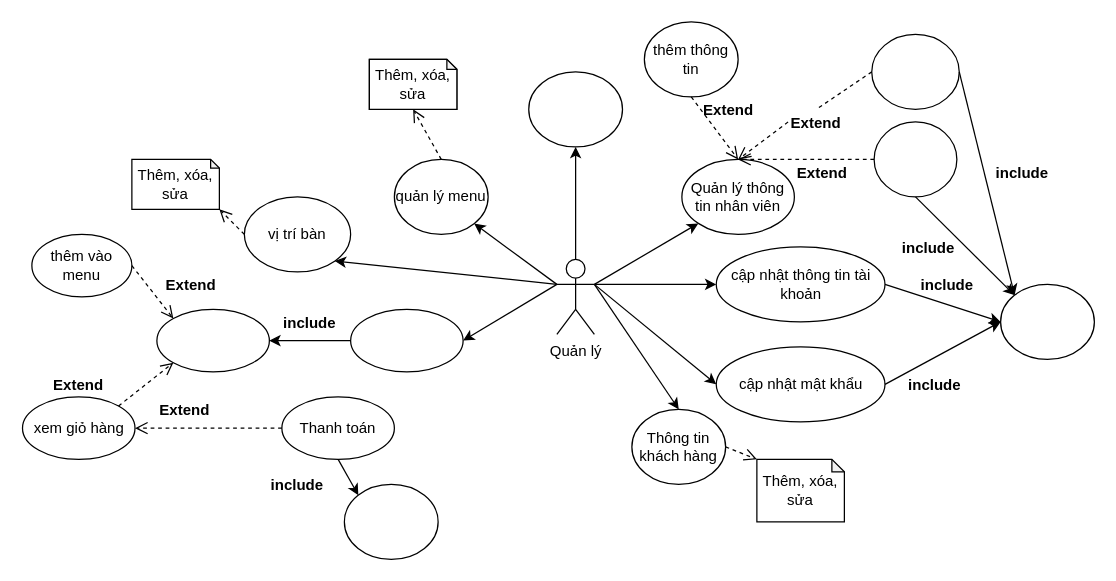
The diagram is 1116 pixels wide and 581 high, and some of its shapes have lost their labels. The centre of each missing label's shape, as x and y in pixels:
"cập nhật thông tin" goes at [915,159].
"giỏ hàng" goes at [406,340].
"quên mật khẩu" goes at [575,109].
"thêm hóa đơn" goes at [390,521].
"xem menu" goes at [212,340].
"Xác thực" goes at [1046,321].
"Xóa thông tin" goes at [914,71].
